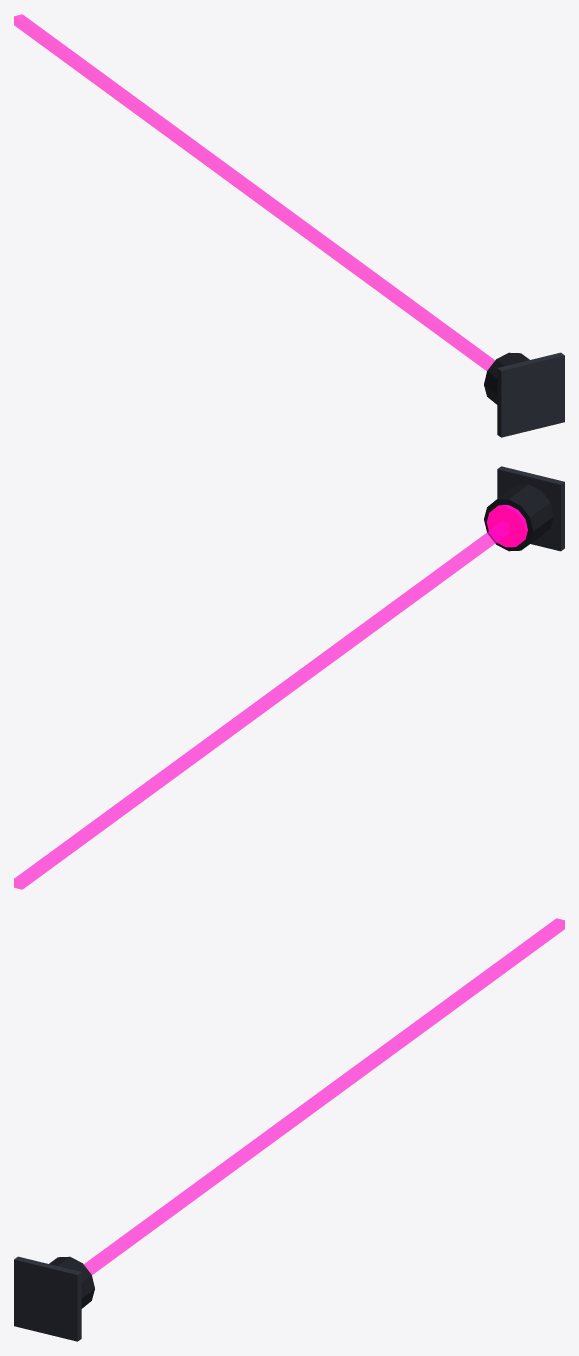
File: Prop_LaserBarrier.fbx
3 renders of one model, top to bottom at view 1: azimuth 30°, elevation 25°; view 2: azimuth 150°, elevation 25°; view 3: azimuth 330°, elevation 25°, orthographic.
Visible parts, largest first — view 1: Prop_LaserBarrier__LaserRed, Prop_LaserBarrier__SteelPanel, Prop_LaserBarrier__DarkMetal; view 2: Prop_LaserBarrier__LaserRed, Prop_LaserBarrier__SteelPanel, Prop_LaserBarrier__DarkMetal, Prop_LaserBarrier__NeonCrimson; view 3: Prop_LaserBarrier__LaserRed, Prop_LaserBarrier__SteelPanel, Prop_LaserBarrier__DarkMetal.
Part boxes in pixels (<box>): Prop_LaserBarrier__LaserRed: <box>14,14,494,370</box>; Prop_LaserBarrier__SteelPanel: <box>497,352,564,437</box>; Prop_LaserBarrier__DarkMetal: <box>484,352,529,404</box>; Prop_LaserBarrier__LaserRed: <box>14,522,509,889</box>; Prop_LaserBarrier__SteelPanel: <box>497,466,564,551</box>; Prop_LaserBarrier__DarkMetal: <box>484,484,553,551</box>; Prop_LaserBarrier__NeonCrimson: <box>486,505,527,547</box>; Prop_LaserBarrier__LaserRed: <box>84,918,564,1274</box>; Prop_LaserBarrier__SteelPanel: <box>14,1256,81,1341</box>; Prop_LaserBarrier__DarkMetal: <box>49,1256,94,1308</box>.
Size of the model in its own units: 0.9 by 0.9 by 12.6.
